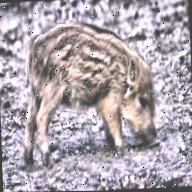boar: (18, 15, 161, 168)
